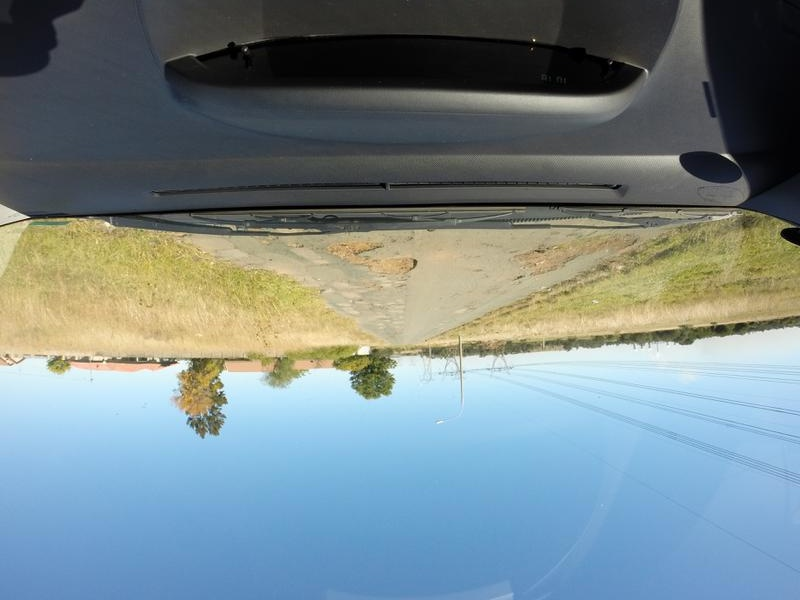pothole: (321, 241, 424, 285), (515, 248, 563, 280), (565, 237, 622, 254)
